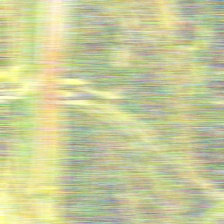Leaf_Blast: (25, 2, 78, 196)
